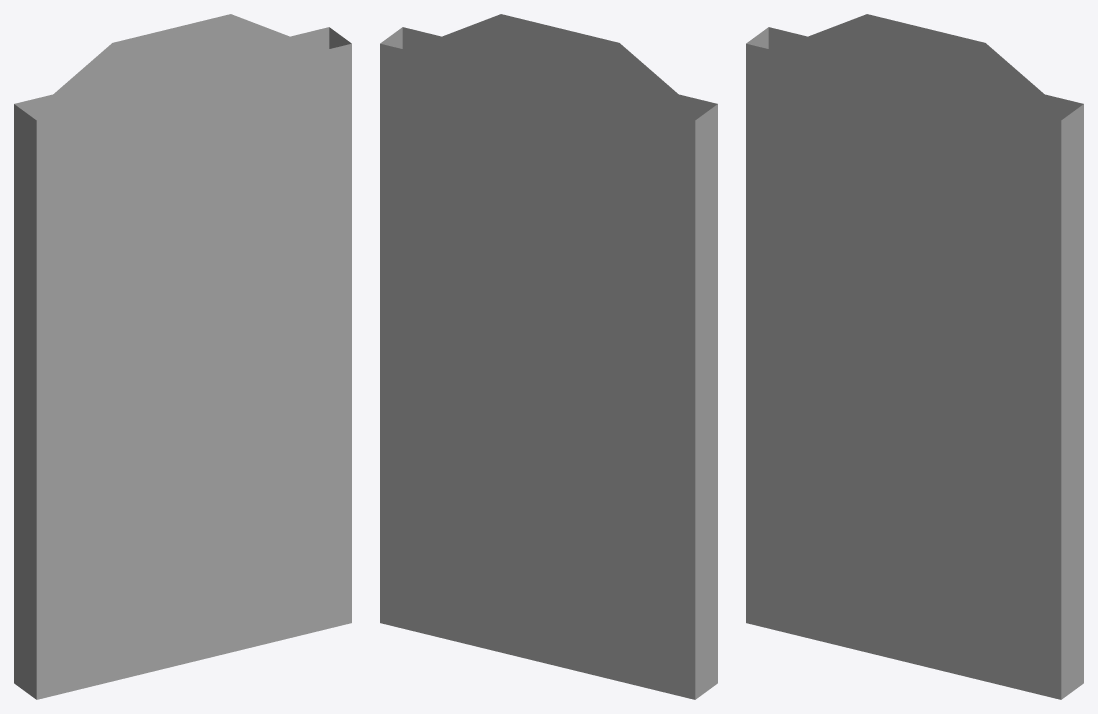
File: Itr_Obj_Grandfatherclock1_Back_06.FBX
The picture shows the model from 3 angles, left to right: view 1: azimuth 30°, elevation 25°; view 2: azimuth 150°, elevation 25°; view 3: azimuth 330°, elevation 25°; orthographic projection.
Parts seen in each view (by area): view 1: Itr_Obj_Grandfatherclock1_Back_06; view 2: Itr_Obj_Grandfatherclock1_Back_06; view 3: Itr_Obj_Grandfatherclock1_Back_06.
Boxes of the visible parts, x1,y1,x2,y2 form: Itr_Obj_Grandfatherclock1_Back_06: (14,14,351,699); Itr_Obj_Grandfatherclock1_Back_06: (380,14,717,699); Itr_Obj_Grandfatherclock1_Back_06: (746,14,1083,699).
Bounding box in the file's own units: 19.3 × 36.07 × 2.41.
